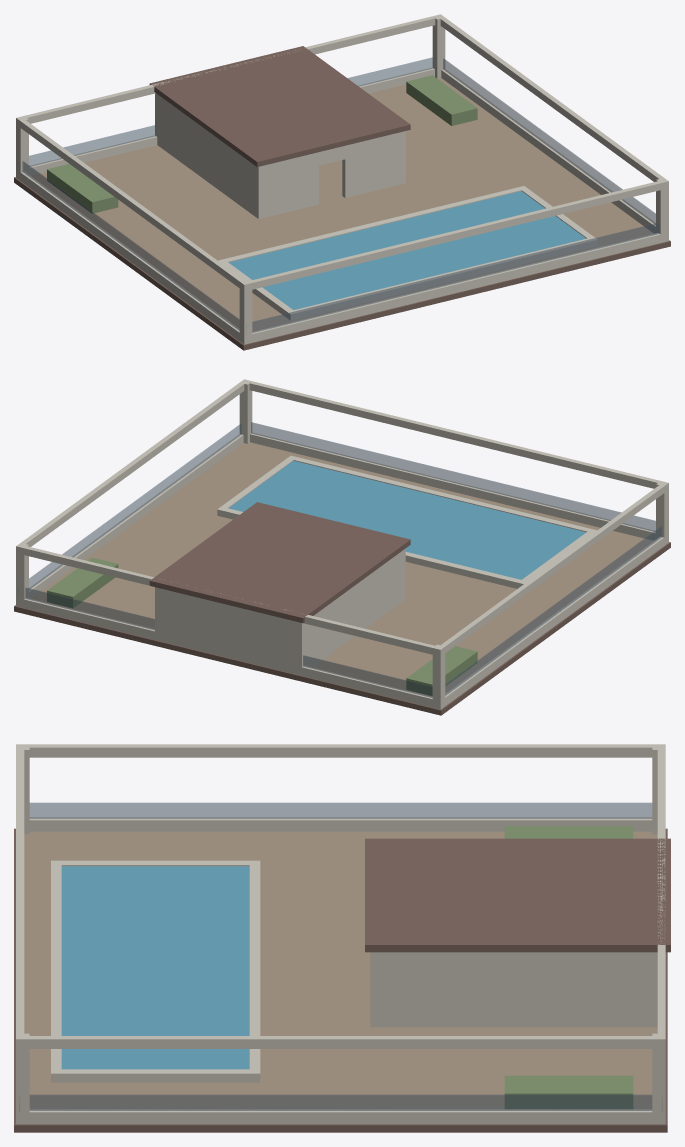
Rendered from brick-roof-b.skyline-v4.lod1.glb.
3 renders of one model, top to bottom at view 1: azimuth 30°, elevation 25°; view 2: azimuth 150°, elevation 25°; view 3: azimuth 270°, elevation 25°, orthographic. The views are drawn at different scales.
Parts seen in each view (by area): view 1: brick-roof-b; view 2: brick-roof-b; view 3: brick-roof-b.
Boxes of the visible parts, x1,y1,x2,y2 form: brick-roof-b: [14, 14, 670, 350]; brick-roof-b: [14, 379, 670, 715]; brick-roof-b: [14, 744, 670, 1132].
Size of the model in its own units: 26.16 by 3.8 by 24.48.
